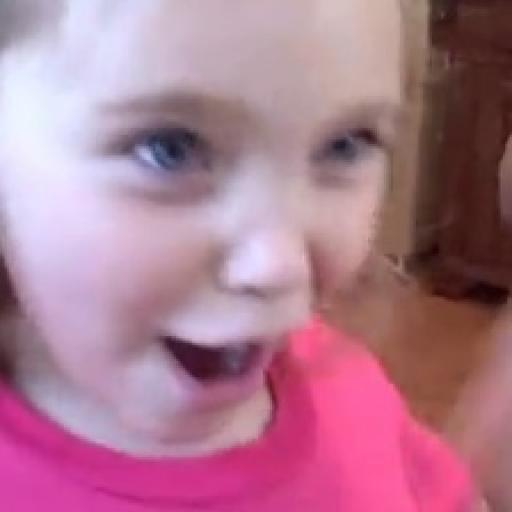Autism: (0, 0, 450, 448)
